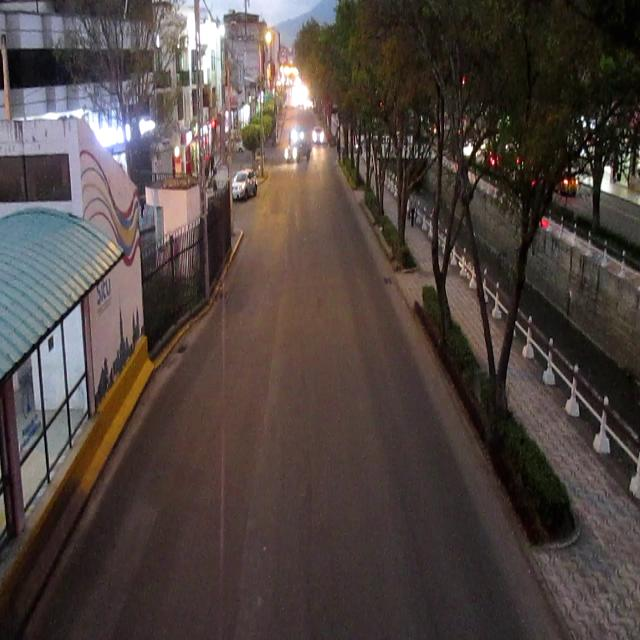SUV: (234, 170, 257, 199)
